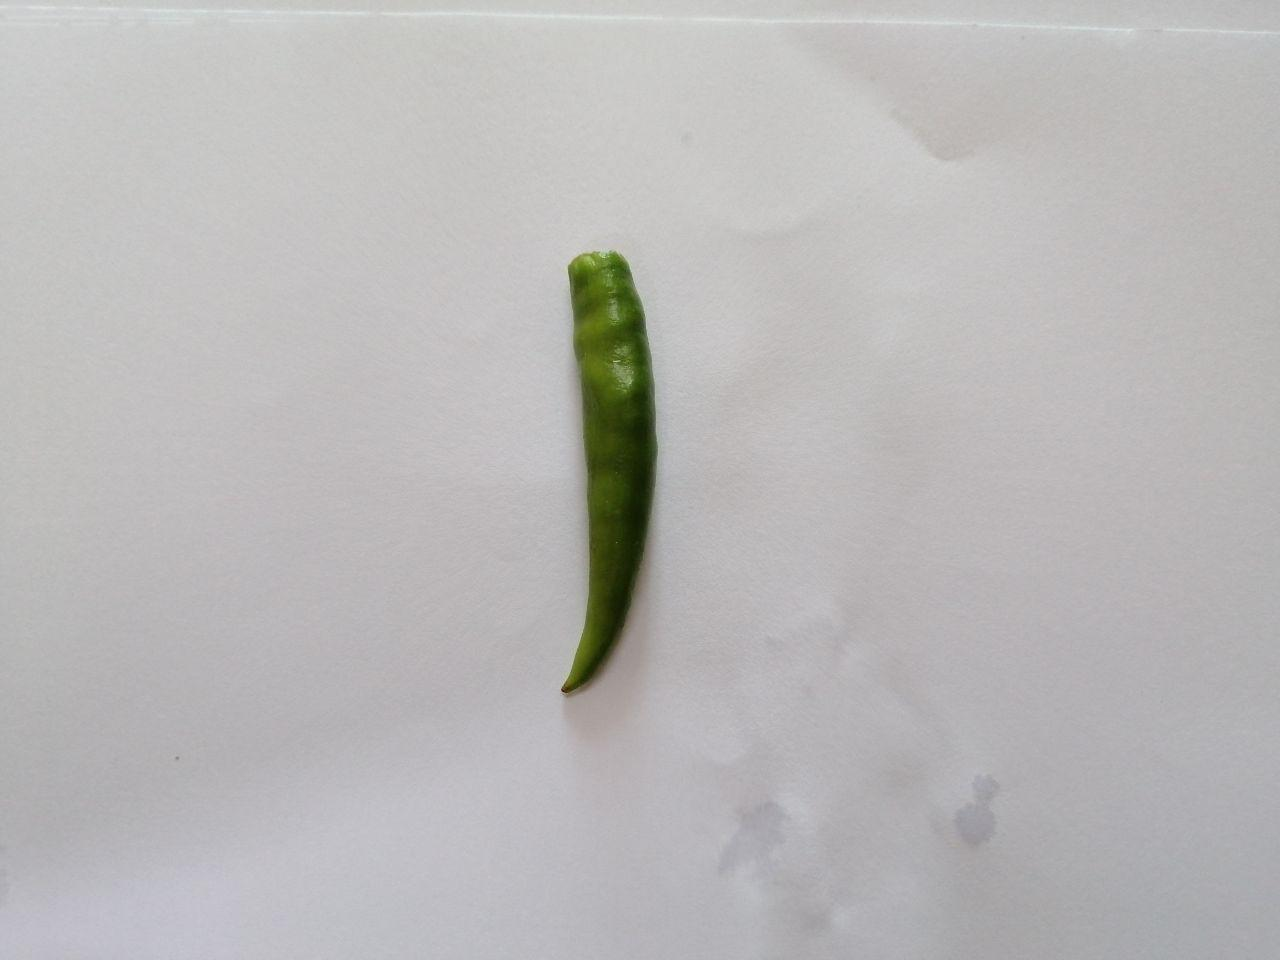lada hijau: (515, 244, 683, 696)
